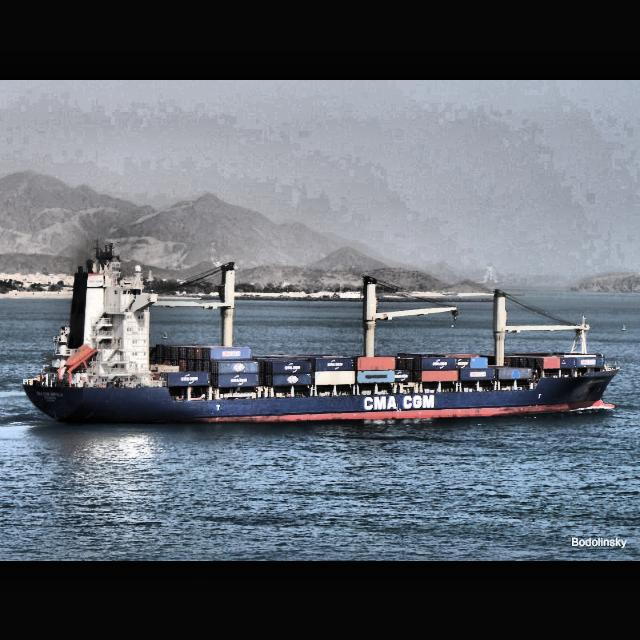container: (23, 249, 622, 425)
